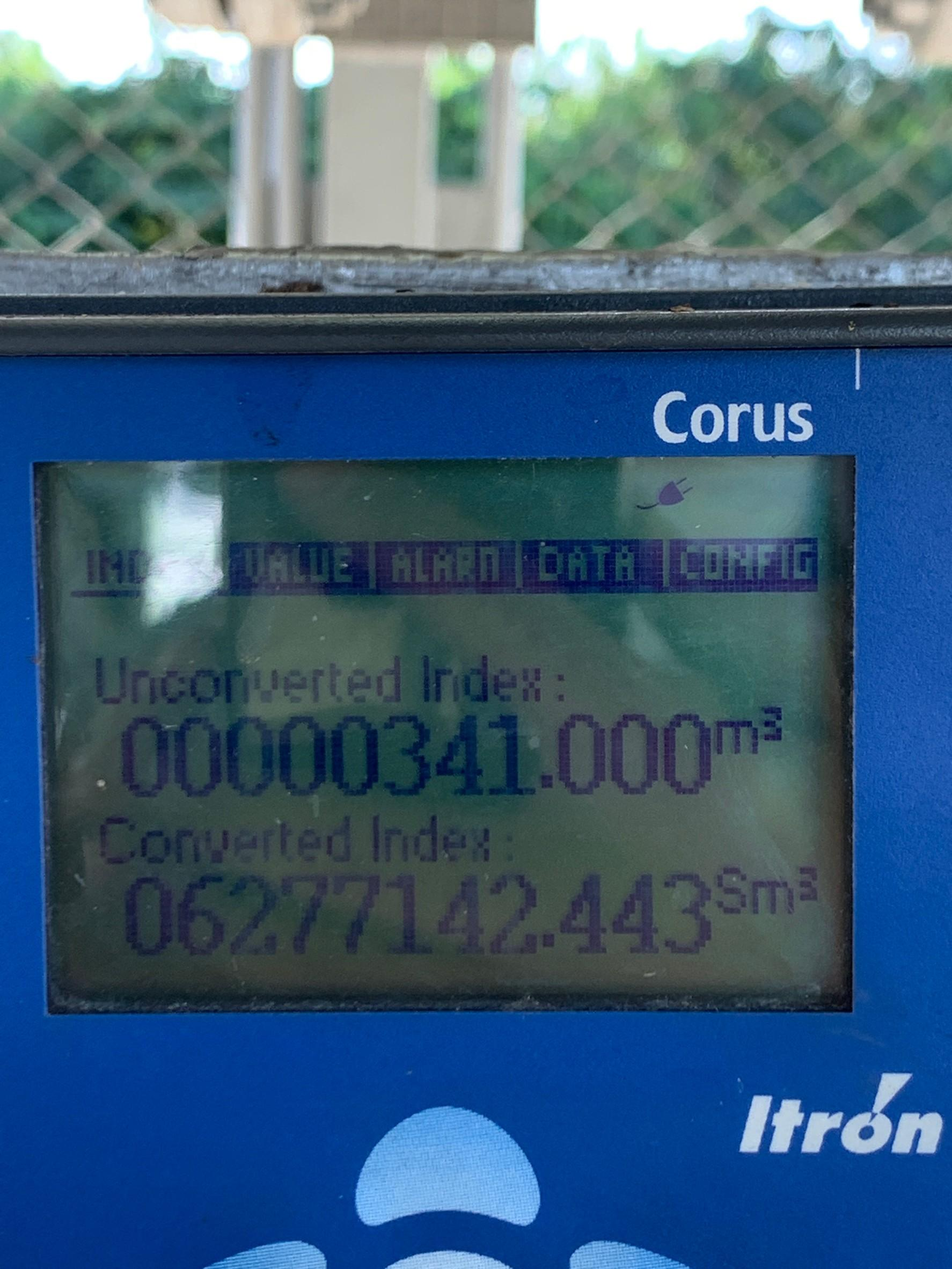digital_screen: (34, 456, 861, 1021)
